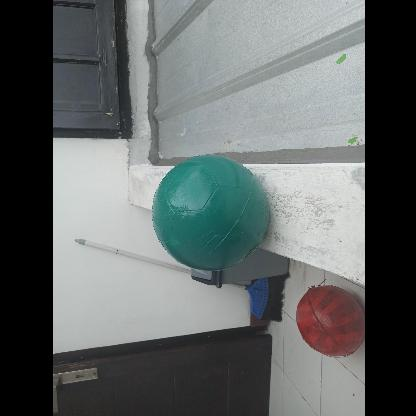green_ball: (150, 154, 268, 270)
